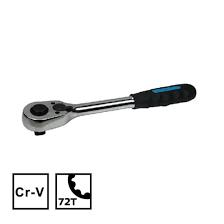wrench: (20, 80, 196, 136)
